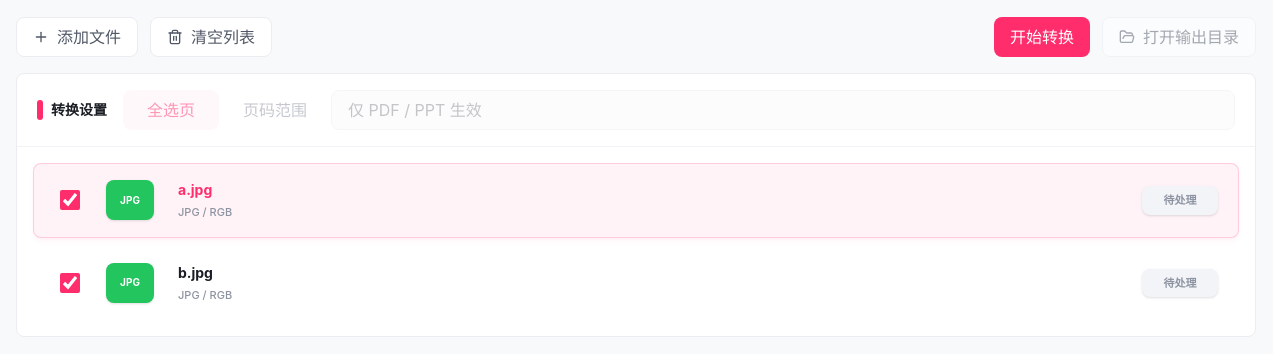
Test: ConvertImagePage › cancels a running conversion batch and leaves remaining items ready
The image size is (1273, 354).
Click the button "开始转换". click: (1042, 37)
box: [994,17,1090,57]
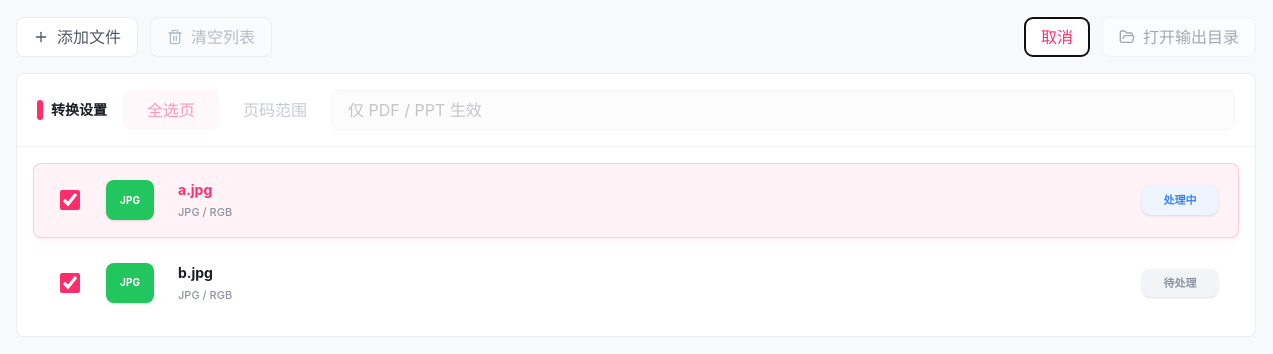
Result: the button "取消" is shown
Click the button "取消". click: (1057, 37)
box: [1024,17,1090,57]
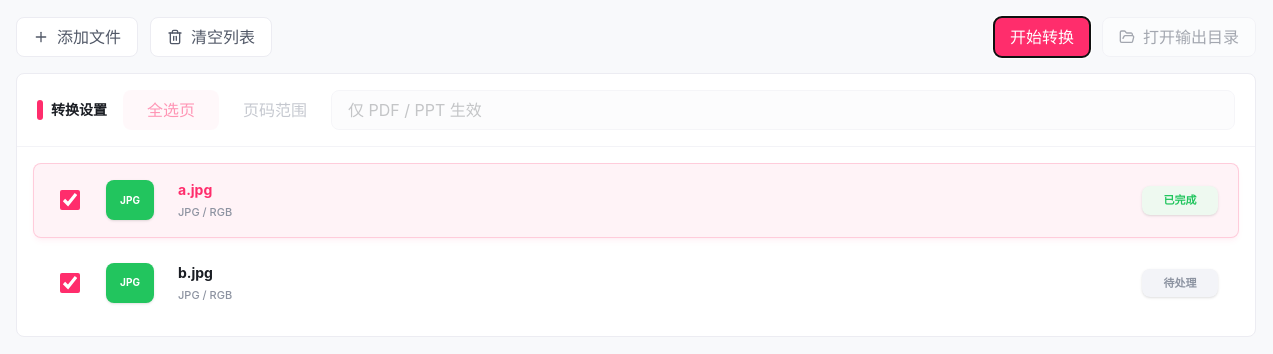
Result: the button "开始转换" is shown at [994,17,1090,57]
